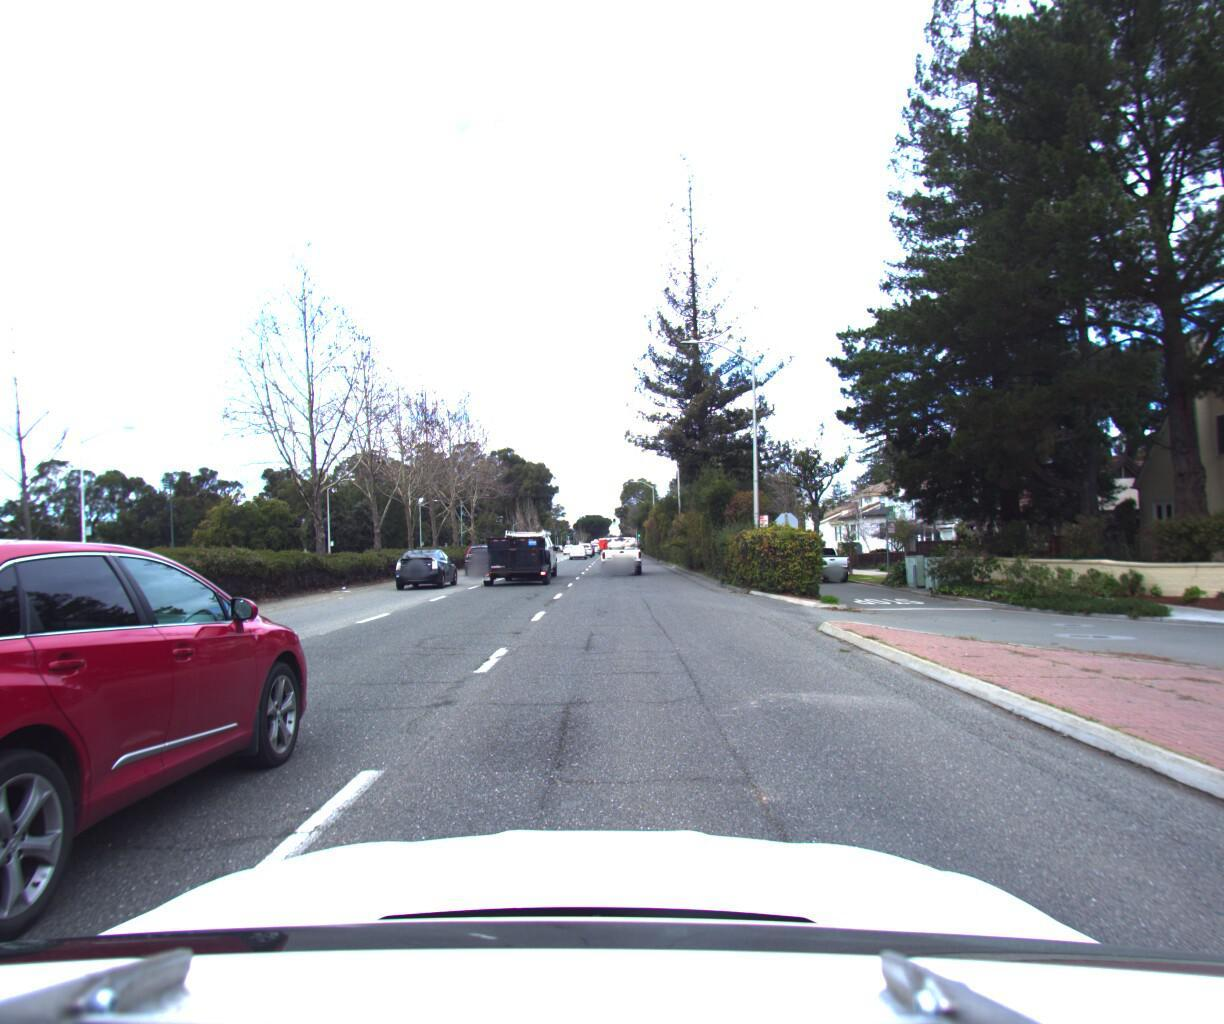car: (477, 514, 564, 581), (393, 539, 460, 583), (788, 534, 852, 574), (597, 524, 645, 570), (461, 534, 504, 567), (569, 540, 589, 556)
